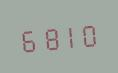eight: (38, 21, 57, 53)
one: (58, 20, 77, 51)
six: (18, 23, 37, 54)
zero: (78, 18, 97, 49)
